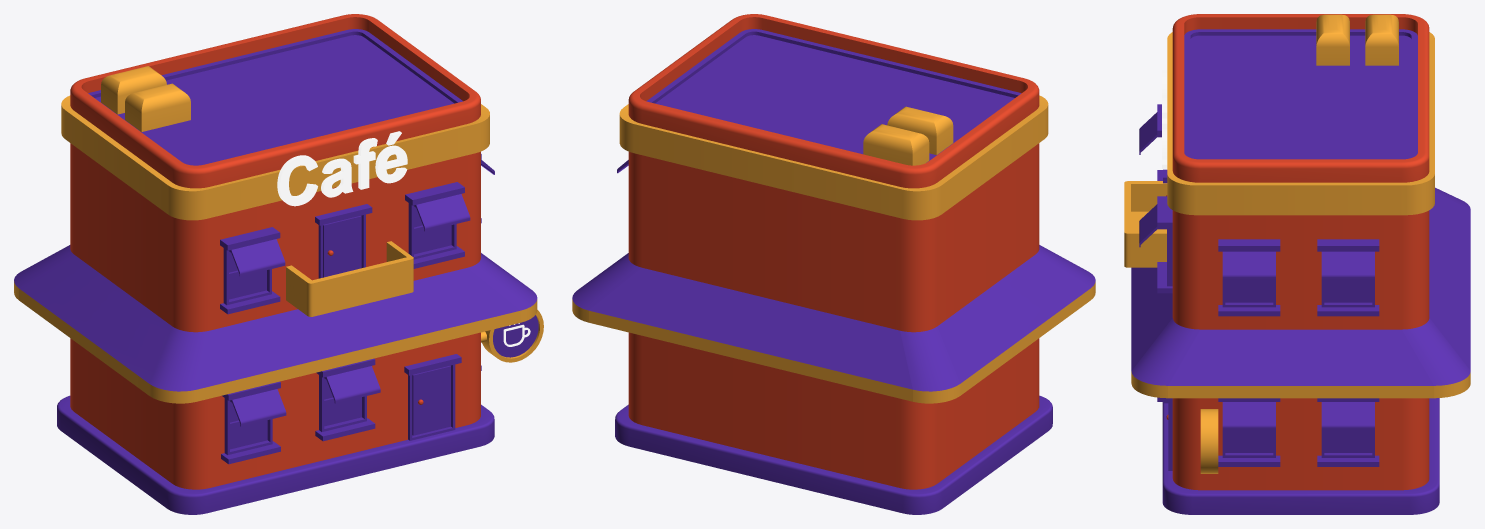
The model's file is cafe.glb.
The picture shows the model from 3 angles, left to right: view 1: azimuth 30°, elevation 25°; view 2: azimuth 150°, elevation 25°; view 3: azimuth 270°, elevation 25°; orthographic projection. The views are drawn at different scales.
Parts seen in each view (by area): view 1: Cup; view 2: Cup; view 3: Cup.
Part boxes in pixels (x1,y1,x2,y2): Cup: (14, 14, 543, 514); Cup: (572, 14, 1095, 514); Cup: (1124, 14, 1470, 514).
Size of the model in its own units: 2.3 by 1.89 by 1.65.
